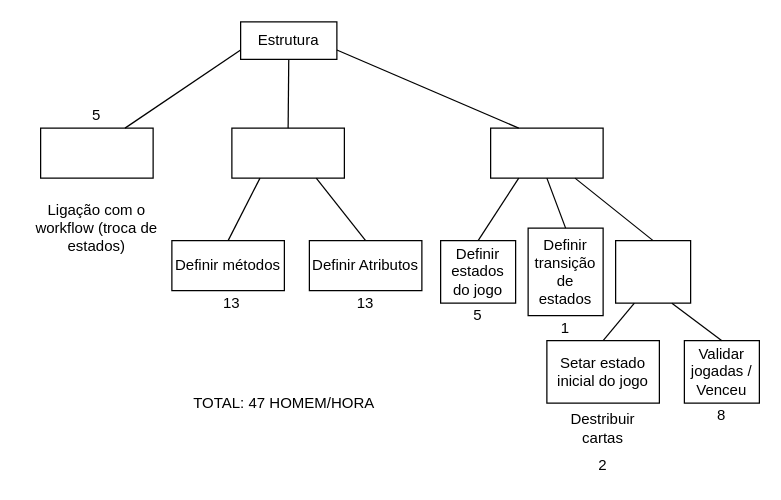
The diagram is 781 pixels wide and 500 high, and some of its shapes have lost their labels. Here are the shapes that lost their labels. From the top down, the centre of each, then its label:
At [96,152]: "Tratar eventos interface".
At [287,152]: "Criar classes do jogo".
At [546,152]: "Workflow".
At [652,271]: "Estados em jogo".
